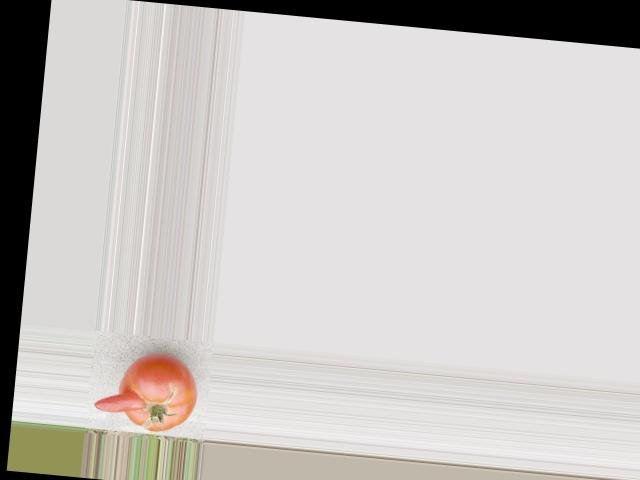tomato: (115, 351, 201, 435)
